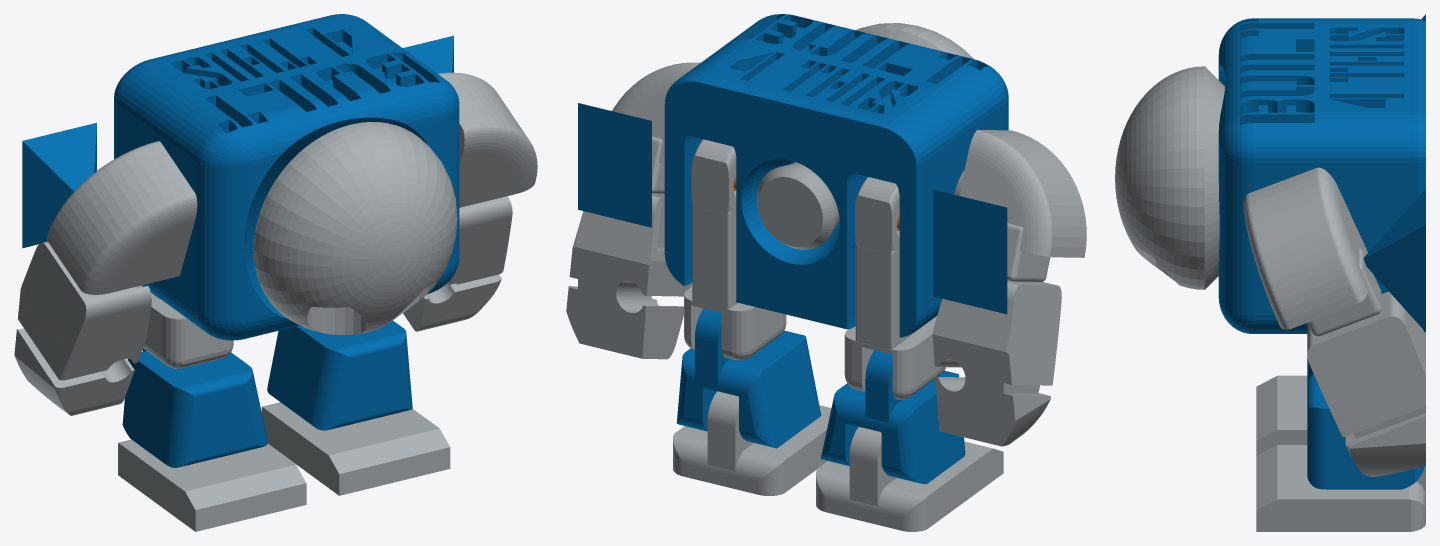
File: tinker.obj
The picture shows the model from 3 angles, left to right: view 1: azimuth 30°, elevation 25°; view 2: azimuth 150°, elevation 25°; view 3: azimuth 270°, elevation 25°; orthographic projection.
Visible parts, largest first — view 1: obj_15, obj_10, obj_2, obj_3, obj_11, obj_12, obj_14, obj_13, obj_7, obj_1, obj_6; view 2: obj_15, obj_2, obj_3, obj_12, obj_1, obj_0, obj_13, obj_11, obj_14, obj_7, obj_6, obj_10; view 3: obj_15, obj_3, obj_10, obj_14, obj_12, obj_6, obj_13.
Boxes of the visible parts, bbox=[...] form: obj_15: bbox=[114, 14, 459, 340]; obj_10: bbox=[253, 122, 457, 334]; obj_2: bbox=[14, 141, 197, 415]; obj_3: bbox=[403, 72, 537, 331]; obj_11: bbox=[122, 348, 267, 467]; obj_12: bbox=[267, 320, 412, 430]; obj_14: bbox=[261, 402, 450, 495]; obj_13: bbox=[118, 439, 306, 531]; obj_7: bbox=[22, 122, 96, 248]; obj_1: bbox=[135, 285, 233, 368]; obj_6: bbox=[403, 35, 453, 73]; obj_15: bbox=[664, 14, 1008, 337]; obj_2: bbox=[932, 129, 1086, 446]; obj_3: bbox=[566, 62, 700, 359]; obj_12: bbox=[676, 308, 821, 448]; obj_1: bbox=[844, 177, 945, 399]; obj_0: bbox=[684, 139, 786, 360]; obj_13: bbox=[816, 427, 1003, 531]; obj_11: bbox=[821, 350, 965, 484]; obj_14: bbox=[673, 391, 831, 495]; obj_7: bbox=[933, 189, 1007, 314]; obj_6: bbox=[578, 103, 651, 227]; obj_10: bbox=[757, 23, 973, 249]; obj_15: bbox=[1218, 18, 1425, 333]; obj_3: bbox=[1244, 167, 1425, 476]; obj_10: bbox=[1115, 66, 1224, 289]; obj_14: bbox=[1256, 445, 1425, 531]; obj_12: bbox=[1307, 374, 1424, 489]; obj_6: bbox=[1363, 189, 1425, 331]; obj_13: bbox=[1256, 375, 1307, 455].
Bounding box in the file's own units: 48.62 × 41.3 × 28.8.
